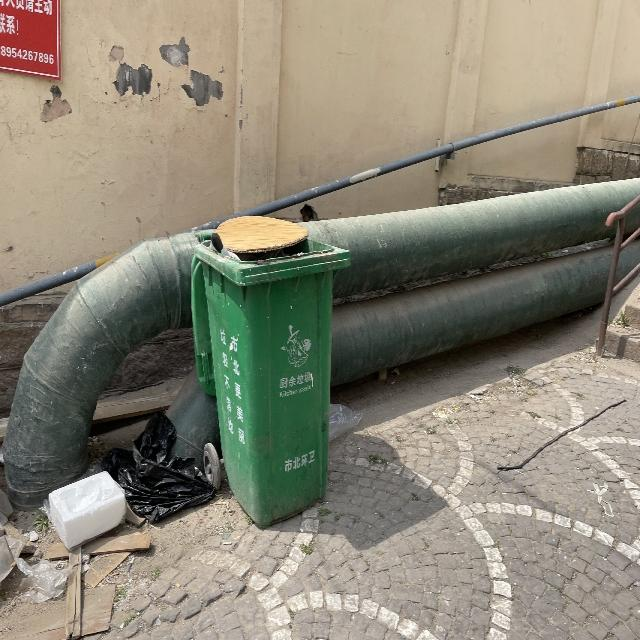garbage: (40, 408, 215, 550)
overflow: (190, 213, 350, 524)
